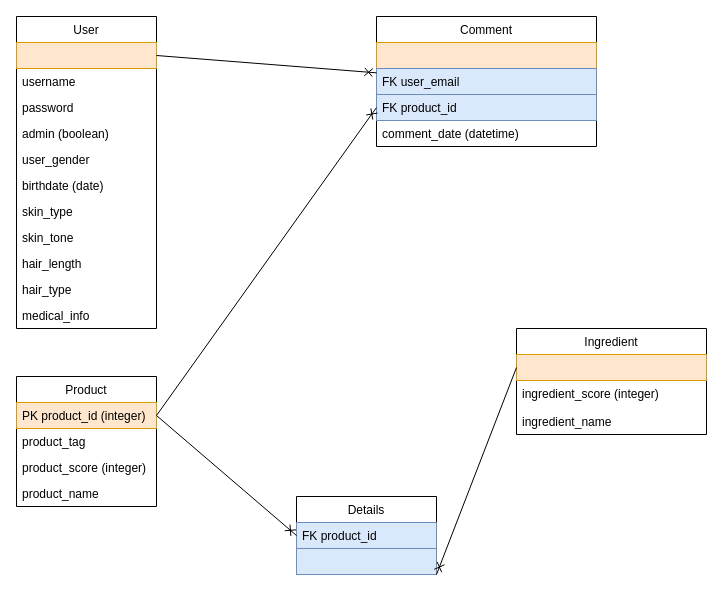
Image size: 723x591. Some labels were removed from this diagram. Here are the shapes that lost their labels. From the top down, the centre of each, then its label:
pixel 86 55: PK user_email
pixel 486 55: PK comment_id
pixel 611 367: PK ingredient_id (integer)
pixel 366 561: FK ingredient_id
